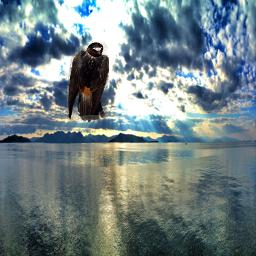Swallow: (67, 42, 109, 123)
